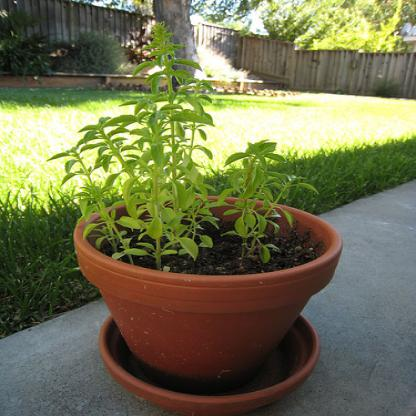pottedplant: (44, 21, 343, 414)
